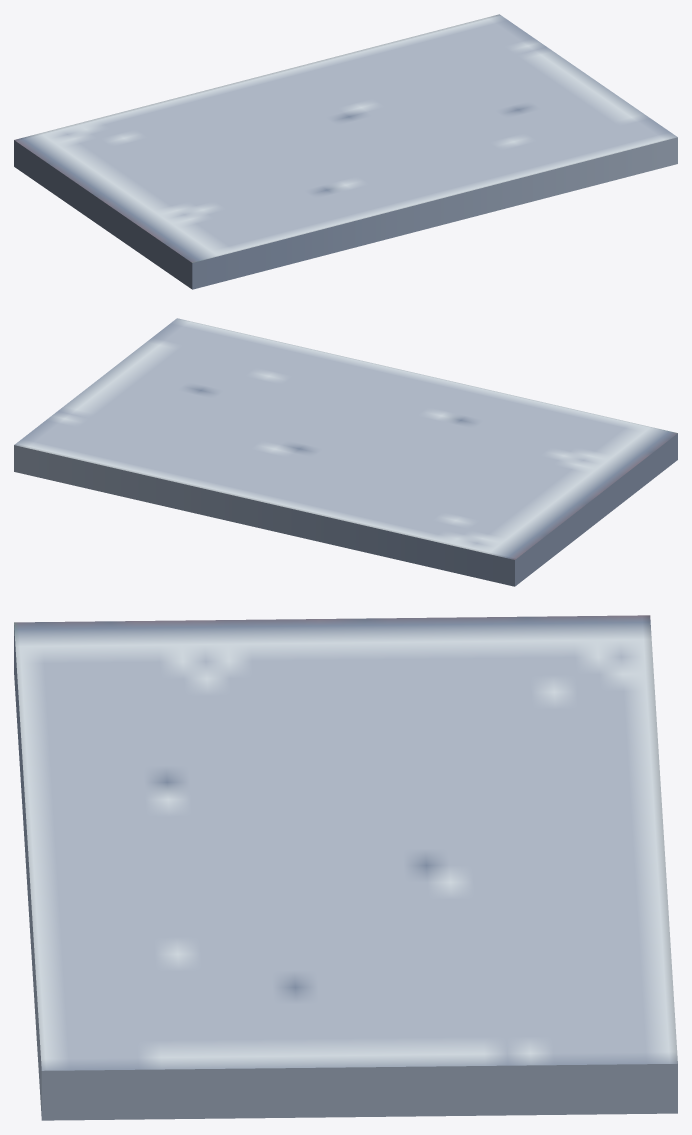
The model's file is PisoLargo.fbx.
The picture shows the model from 3 angles, top to bottom: view 1: azimuth 30°, elevation 25°; view 2: azimuth 150°, elevation 25°; view 3: azimuth 270°, elevation 25°; orthographic projection. The views are drawn at different scales.
Visible parts, largest first — view 1: Plane.002; view 2: Plane.002; view 3: Plane.002.
Boxes of the visible parts, bbox=[...] form: Plane.002: bbox=[14, 14, 677, 289]; Plane.002: bbox=[14, 318, 677, 586]; Plane.002: bbox=[14, 615, 677, 1120].
Size of the model in its own units: 272 by 167 by 13.85.
